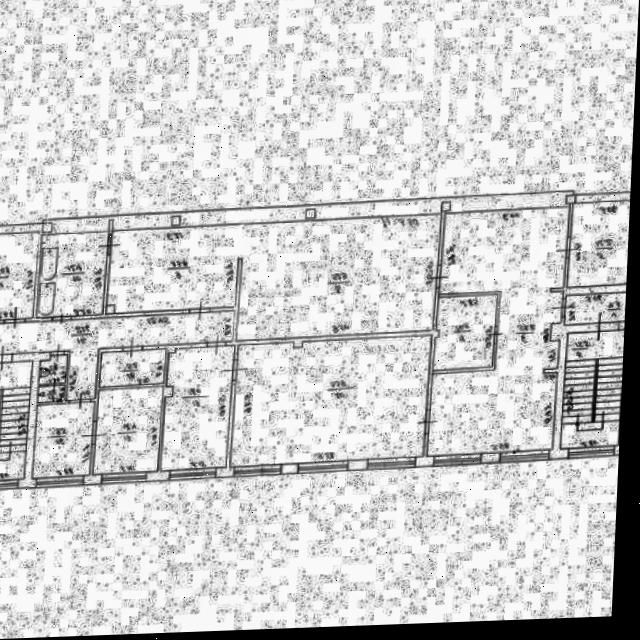room: (104, 212, 449, 346), (430, 199, 571, 464), (227, 334, 440, 465), (0, 308, 241, 402), (163, 339, 237, 473), (563, 329, 624, 451), (39, 225, 110, 320), (96, 381, 166, 477), (569, 199, 630, 290), (436, 290, 499, 374), (36, 396, 97, 480), (0, 359, 34, 478), (0, 230, 41, 317), (100, 347, 170, 385), (565, 293, 628, 325), (41, 351, 69, 384), (39, 383, 69, 400)
